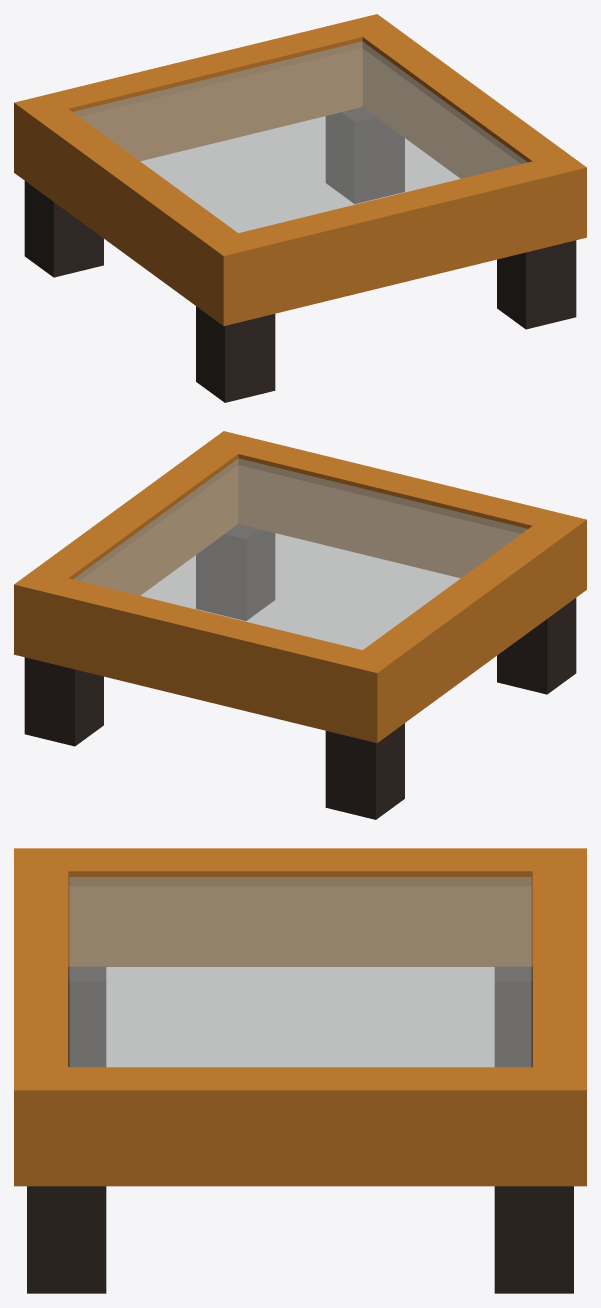
The model's file is TaulaBaixa.fbx.
3 views of the same model, one above another, from view 1: azimuth 30°, elevation 25°; view 2: azimuth 150°, elevation 25°; view 3: azimuth 270°, elevation 25° (orthographic). The views are drawn at different scales.
Parts seen in each view (by area): view 1: Taula, vidre, Potes; view 2: Taula, vidre, Potes; view 3: Taula, vidre, Potes.
Part boxes in pixels (x1,y1,x2,y2): Taula: (14,14,586,325); vidre: (73,41,527,232); Potes: (24,107,576,402); Taula: (14,431,586,742); vidre: (73,458,527,649); Potes: (24,524,576,819); Taula: (14,848,586,1186); vidre: (69,877,531,1067); Potes: (27,966,573,1293).
Bounding box in the file's own units: 200 × 79.84 × 200.
